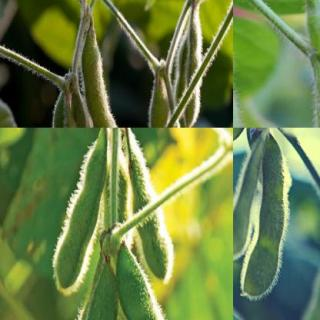soya: (52, 136, 107, 292), (242, 140, 285, 298), (129, 134, 175, 281), (116, 246, 194, 320), (82, 31, 122, 127), (233, 151, 262, 259), (183, 7, 205, 127), (68, 269, 118, 319), (142, 87, 170, 127), (71, 94, 101, 127), (39, 95, 66, 127)
